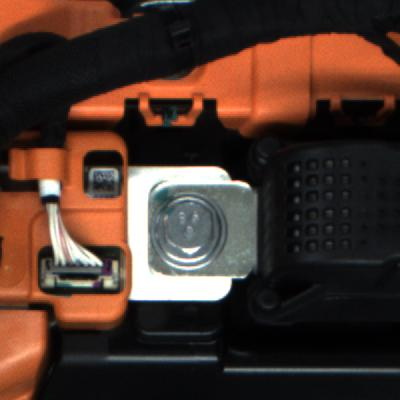nut_b: (146, 191, 229, 281)
